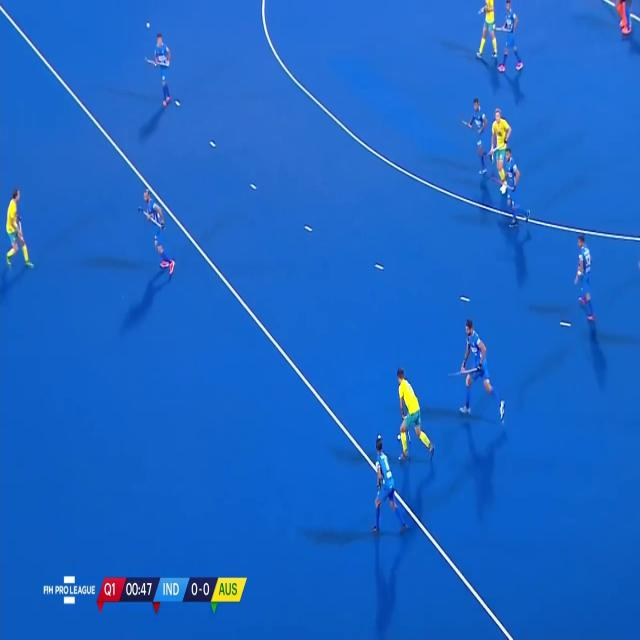ball: (394, 429, 402, 442)
